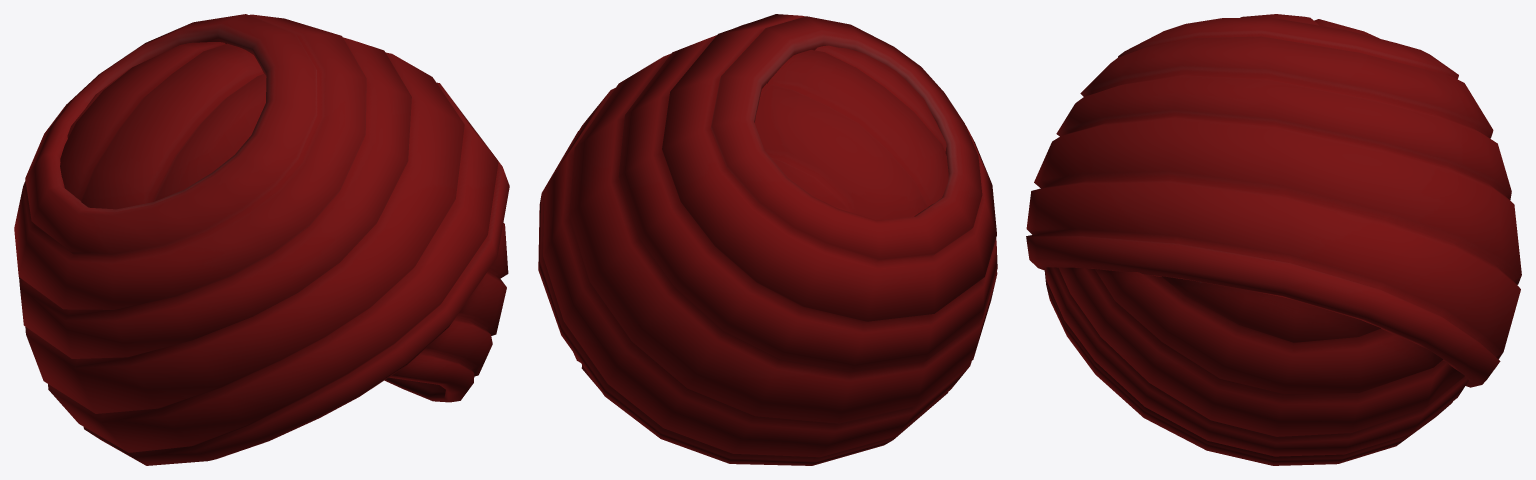
Rendered from Turban.FBX.
3 renders of one model, left to right at view 1: azimuth 30°, elevation 25°; view 2: azimuth 150°, elevation 25°; view 3: azimuth 270°, elevation 25°, orthographic. The views are drawn at different scales.
Visible parts, largest first — view 1: Turban; view 2: Turban; view 3: Turban.
Boxes of the visible parts, <box> form: Turban: <box>14,14,509,465</box>; Turban: <box>538,14,997,465</box>; Turban: <box>1026,14,1521,465</box>.
Bounding box in the file's own units: 43.58 × 40.04 × 44.64.
Materials: 1 (1 with a texture image).
